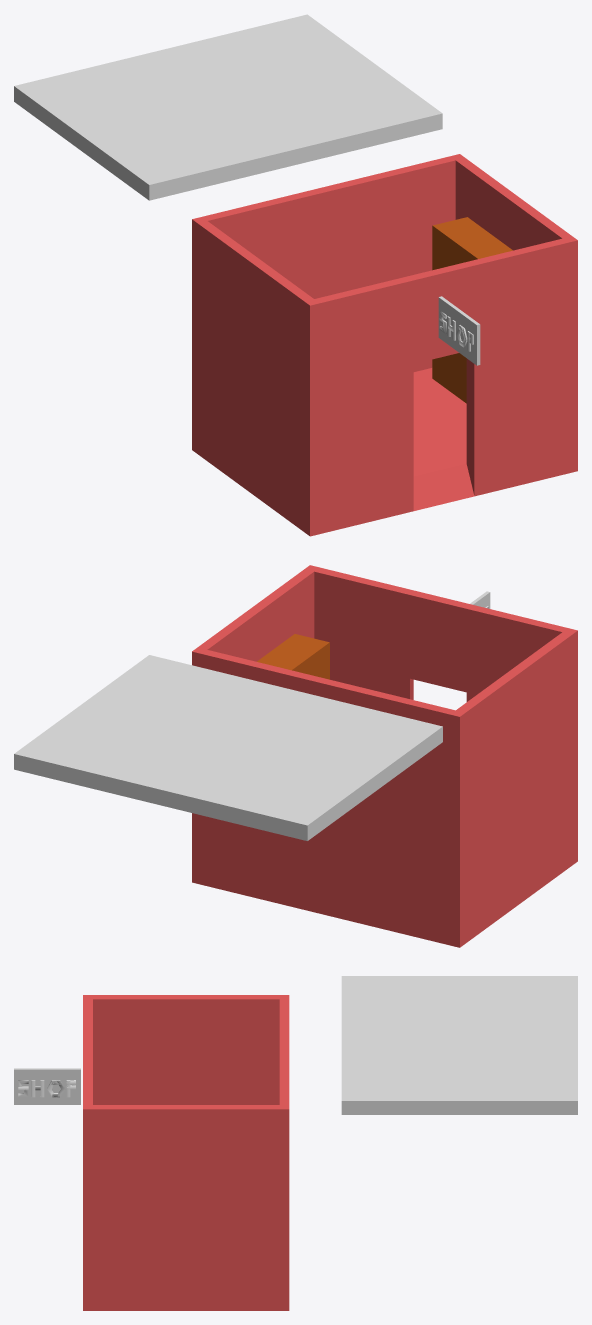
File: BoxShop01.FBX
3 views of the same model, one above another, from view 1: azimuth 30°, elevation 25°; view 2: azimuth 150°, elevation 25°; view 3: azimuth 270°, elevation 25° (orthographic). The views are drawn at different scales.
Visible parts, largest first — view 1: Shop01, Shop_Roof01, SignBoard01; view 2: Shop01, Shop_Roof01; view 3: Shop01, Shop_Roof01, SignBoard01, Sign003.
Boxes of the visible parts, x1=… form: Shop01: x1=192, y1=154, x2=577, y2=536; Shop_Roof01: x1=14, y1=14, x2=442, y2=200; SignBoard01: x1=438, y1=296, x2=480, y2=365; Shop01: x1=192, y1=565, x2=577, y2=947; Shop_Roof01: x1=14, y1=655, x2=442, y2=840; Shop01: x1=83, y1=995, x2=289, y2=1310; Shop_Roof01: x1=341, y1=976, x2=577, y2=1114; SignBoard01: x1=14, y1=1068, x2=80, y2=1104; Sign003: x1=18, y1=1080, x2=75, y2=1097.
Size of the model in its own units: 47.32 by 37.95 by 90.14.
